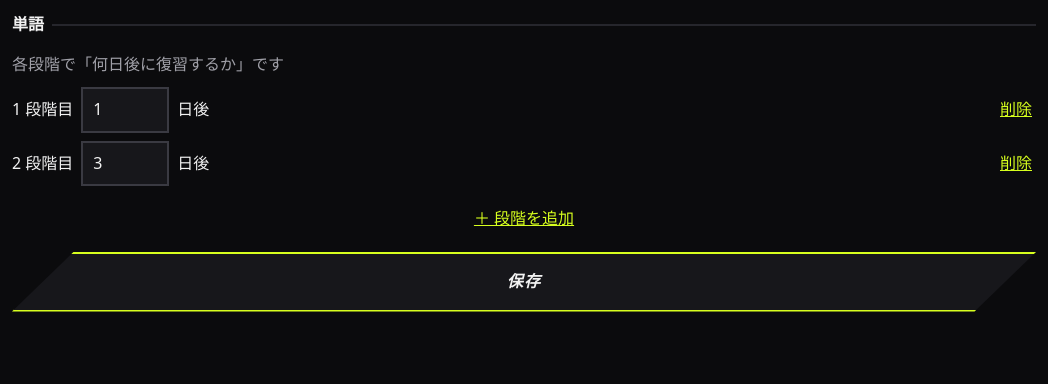
IntervalEditor › 昇順でないとエラーを出し、保存を押せない
Replace the text in the number field named "単語 2 段階目の日数" with "1" at (125, 164), box [81,141,169,186]
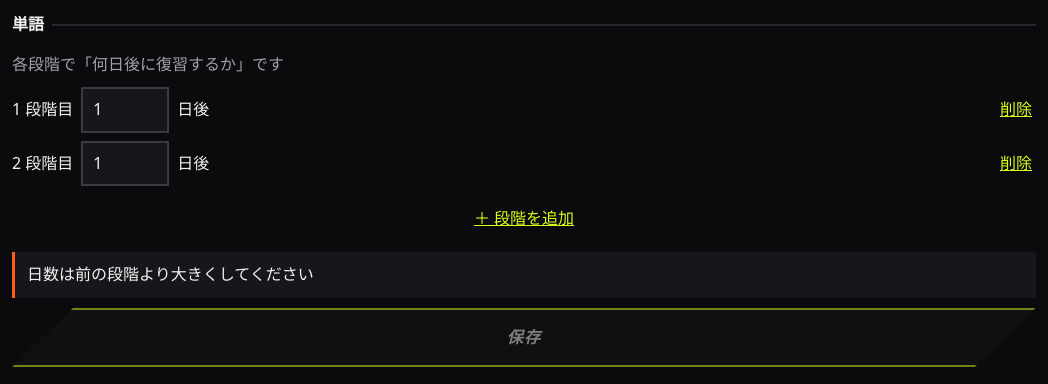
Expected: the message shows "大きく", [12,252,1036,298]
Expected: the button "保存" is disabled, [12,308,1036,367]
